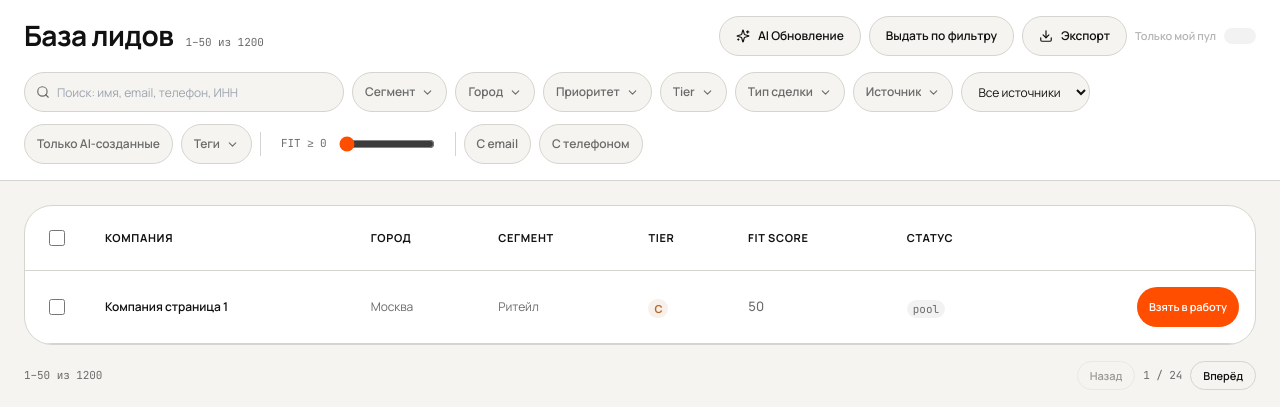
Test: База лидов — выборку определяет сервер › счётчики в фильтрах приходят из метаданных, а не из строк
Expected: the text "Компания страница 1" is shown, x1=105 y1=298 x2=228 y2=315
Click the button "Приоритет": (597, 92) x1=543 y1=72 x2=652 y2=112
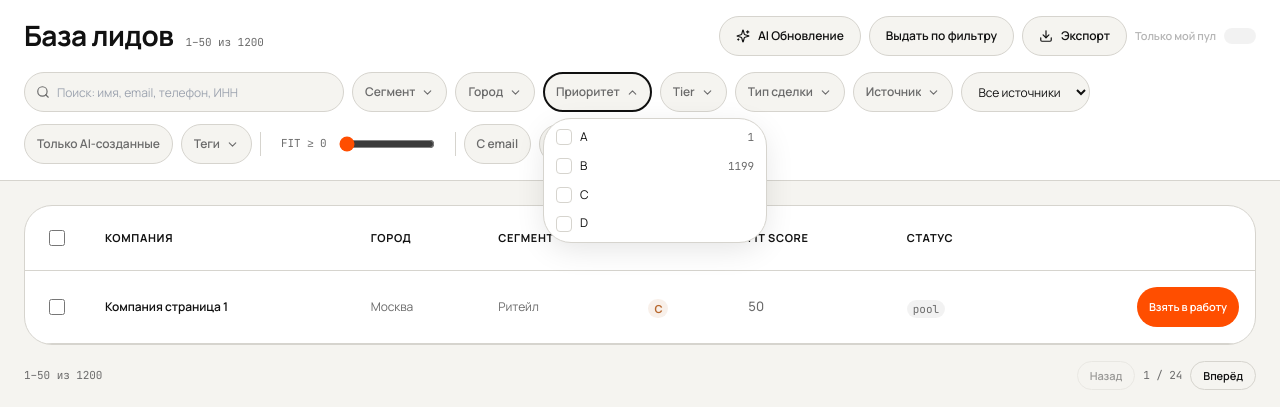
Result: the text "1199" is shown at x1=728 y1=158 x2=754 y2=174
